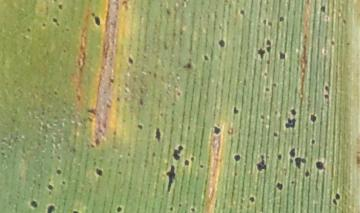tarspot: (164, 164, 178, 192), (255, 154, 269, 174), (171, 144, 183, 162), (153, 125, 163, 144), (283, 116, 297, 129), (314, 159, 326, 173), (211, 124, 224, 136), (255, 47, 267, 60), (180, 60, 193, 72), (125, 54, 136, 67), (216, 36, 226, 49), (231, 105, 242, 116), (277, 51, 289, 61), (275, 181, 285, 193), (45, 204, 58, 213), (94, 167, 105, 177), (231, 152, 241, 163), (93, 15, 102, 27), (114, 204, 126, 213), (262, 37, 274, 46), (295, 157, 303, 170), (29, 199, 39, 209), (45, 182, 55, 192), (330, 196, 339, 207), (303, 168, 312, 179), (308, 137, 319, 146), (309, 113, 317, 125), (136, 122, 146, 131), (202, 53, 212, 62), (238, 8, 247, 18), (289, 108, 300, 116), (289, 147, 297, 158), (271, 130, 280, 139), (329, 38, 338, 47), (248, 195, 258, 203), (55, 167, 63, 176), (51, 16, 60, 24), (25, 26, 34, 34), (320, 5, 328, 14), (278, 15, 286, 24), (183, 158, 190, 168), (301, 156, 308, 166), (323, 93, 331, 101), (267, 21, 275, 29), (264, 46, 273, 53), (324, 84, 331, 93), (197, 163, 206, 170), (277, 153, 283, 163), (58, 3, 65, 11), (335, 193, 342, 201), (264, 86, 272, 93), (189, 206, 197, 213), (108, 78, 117, 84), (262, 16, 268, 25), (71, 208, 81, 213), (90, 10, 97, 17), (169, 205, 176, 212), (60, 180, 68, 185), (42, 21, 47, 28)
